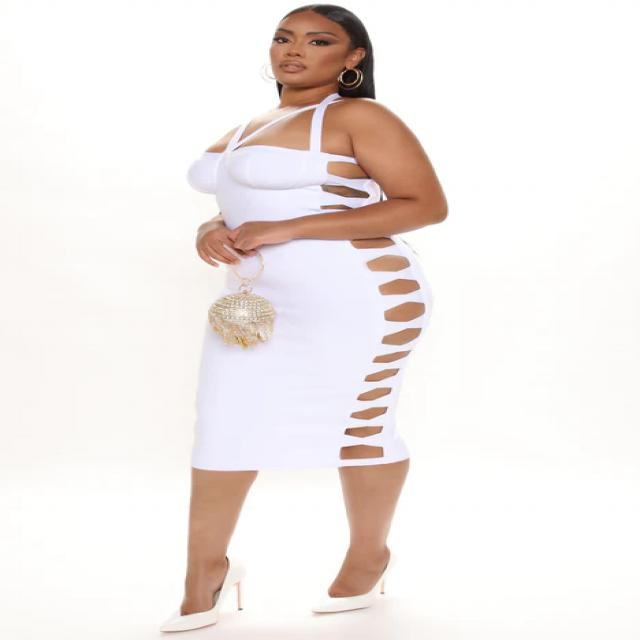clothes: (151, 91, 468, 496)
